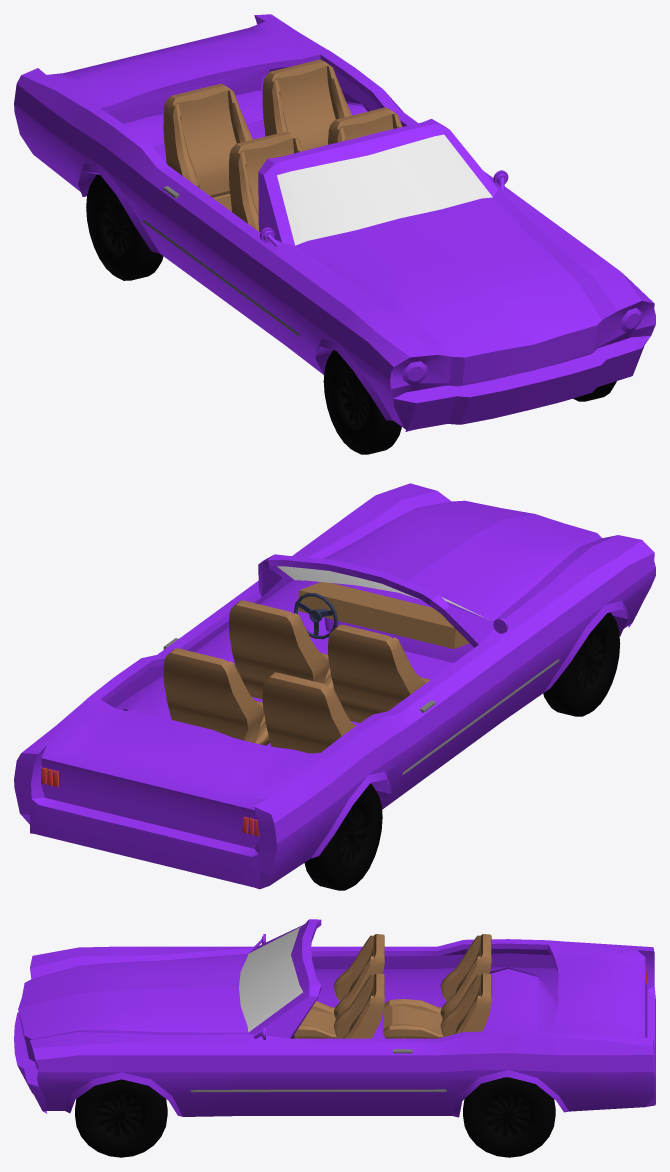
Rendered from carmodel(4w).fbx.
The picture shows the model from 3 angles, top to bottom: view 1: azimuth 30°, elevation 25°; view 2: azimuth 150°, elevation 25°; view 3: azimuth 270°, elevation 25°; orthographic projection. The views are drawn at different scales.
Parts seen in each view (by area): view 1: bodywork, chairs, wheel in front right, wheel in back right, side add ons; view 2: bodywork, chairs, dashboard, wheel in back right, wheel in front right, steering wheel, side add ons; view 3: bodywork, chairs, wheel in back left, wheel in front left, side add ons.
Part boxes in pixels (x1,y1,x2,y2): bodywork: [14, 14, 655, 431]; chairs: [163, 59, 402, 231]; wheel in front right: [323, 350, 401, 454]; wheel in back right: [86, 174, 163, 280]; side add ons: [142, 186, 299, 336]; bodywork: [14, 483, 655, 889]; chairs: [163, 600, 430, 753]; dashboard: [297, 582, 469, 648]; wheel in back right: [304, 783, 382, 890]; wheel in front right: [543, 612, 620, 716]; steering wheel: [294, 593, 337, 639]; side add ons: [163, 638, 559, 774]; bodywork: [14, 919, 655, 1117]; chairs: [292, 934, 491, 1038]; wheel in back left: [463, 1077, 555, 1157]; wheel in front left: [75, 1079, 167, 1157]; side add ons: [191, 1049, 446, 1092].
Size of the model in its own units: 134 by 93.9 by 336.
